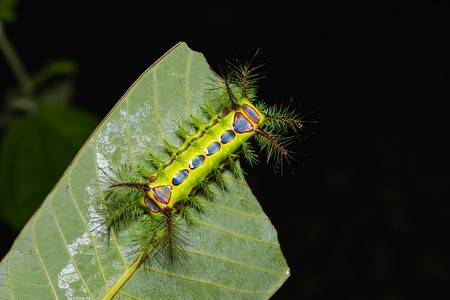Pest! (nettle_caterpillar): (81, 51, 310, 258)
